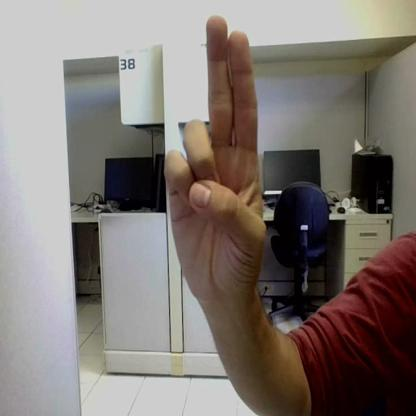U: (165, 14, 266, 284)
